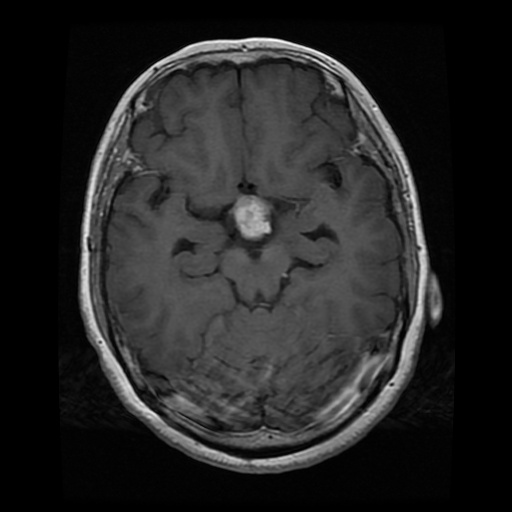pituitary: (233, 194, 269, 240)
